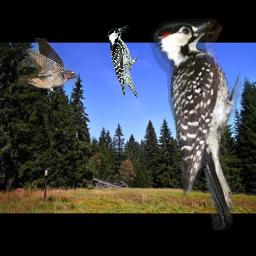Swallow: (17, 38, 77, 93)
Woodpecker: (147, 19, 247, 230), (107, 25, 137, 98)
